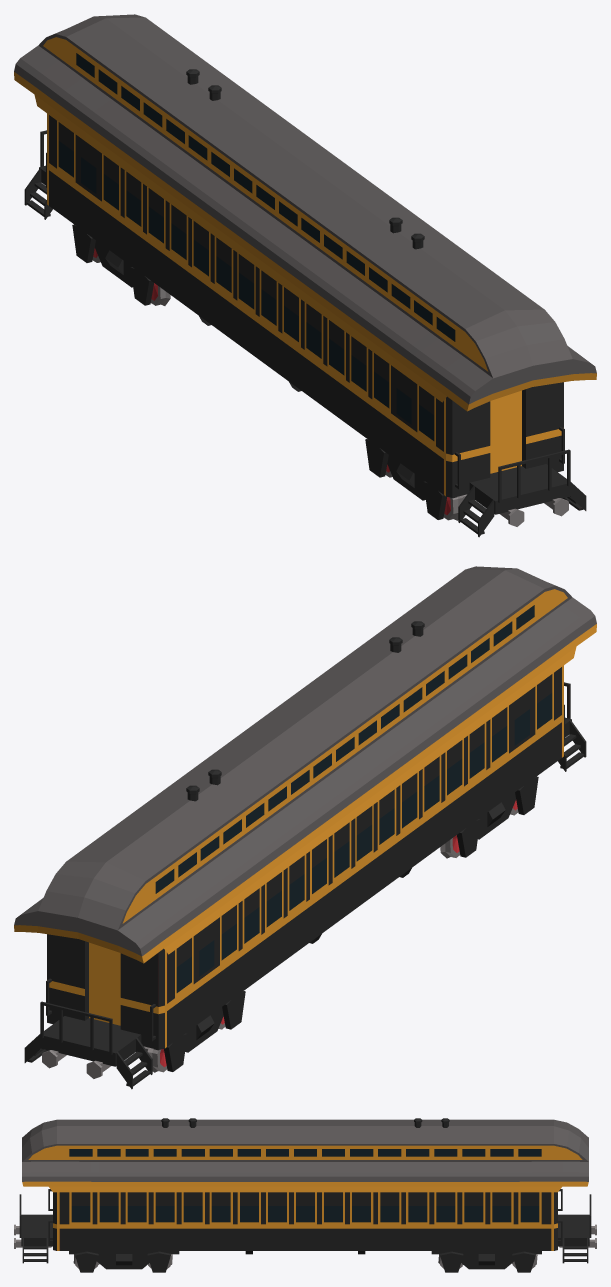
File: wagon-western.glb
3 renders of one model, top to bottom at view 1: azimuth 30°, elevation 25°; view 2: azimuth 150°, elevation 25°; view 3: azimuth 270°, elevation 25°, orthographic. The views are drawn at different scales.
Visible parts, largest first — view 1: wagon-western-base, wagon-wheel-base1, wagon-wheel-base2; view 2: wagon-western-base, wagon-wheel-base2, wagon-wheel-base1; view 3: wagon-western-base, wagon-wheel-base1, wagon-wheel-base2.
Boxes of the visible parts, <box> form: wagon-western-base: <box>14,14,596,537</box>; wagon-wheel-base1: <box>365,439,456,519</box>; wagon-wheel-base2: <box>72,224,153,305</box>; wagon-western-base: <box>14,566,596,1089</box>; wagon-wheel-base2: <box>154,991,245,1071</box>; wagon-wheel-base1: <box>457,776,538,857</box>; wagon-western-base: <box>14,1118,596,1263</box>; wagon-wheel-base1: <box>69,1251,179,1272</box>; wagon-wheel-base2: <box>431,1251,541,1272</box>.
Size of the model in its own units: 2.91 by 4.87 by 17.94.
Materials: 1 (1 with a texture image).
